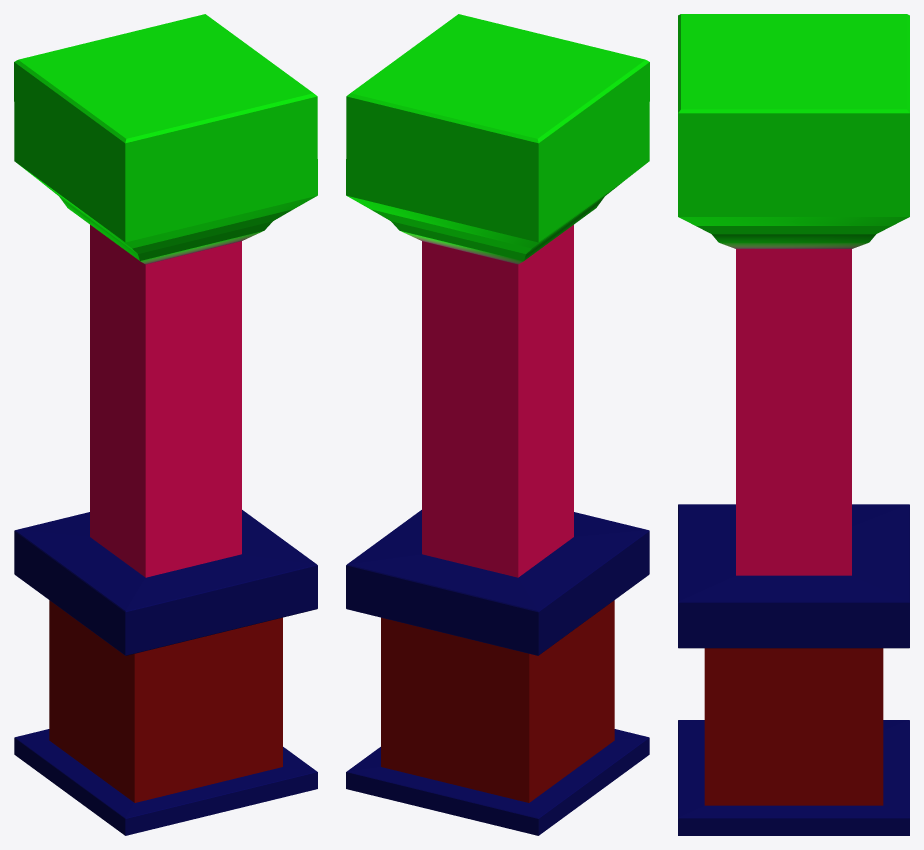
File: PillarNormal.fbx
3 renders of one model, left to right at view 1: azimuth 30°, elevation 25°; view 2: azimuth 150°, elevation 25°; view 3: azimuth 270°, elevation 25°, orthographic. The views are drawn at different scales.
Parts seen in each view (by area): view 1: Column; view 2: Column; view 3: Column.
Boxes of the visible parts, x1=… form: Column: x1=14, y1=14, x2=317, y2=835; Column: x1=346, y1=14, x2=649, y2=835; Column: x1=678, y1=14, x2=909, y2=835.
Size of the model in its own units: 120 by 414 by 120.
